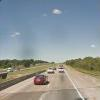Car: (31, 67, 52, 91)
